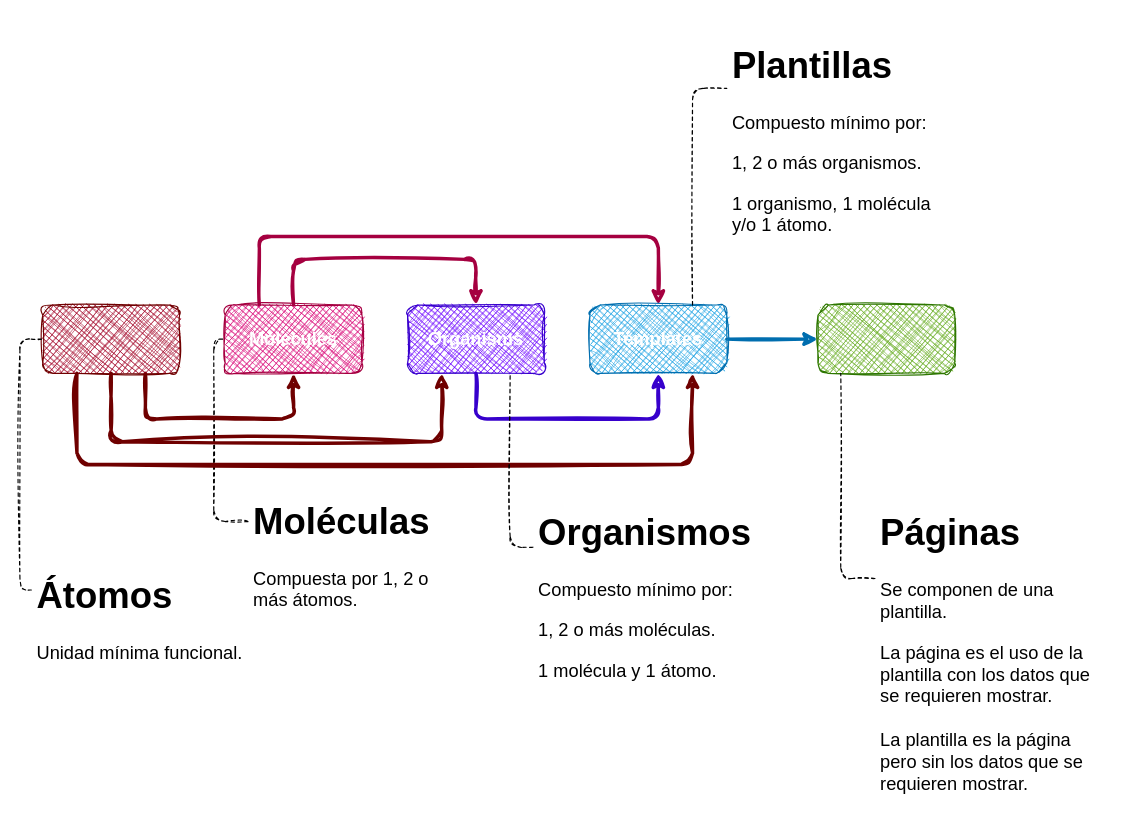
Image size: 1123x837. Some labels were removed from this diagram. Each missing label, with the centre of its shape:
Atoms: the point at 111,338
Pages: the point at 886,338
